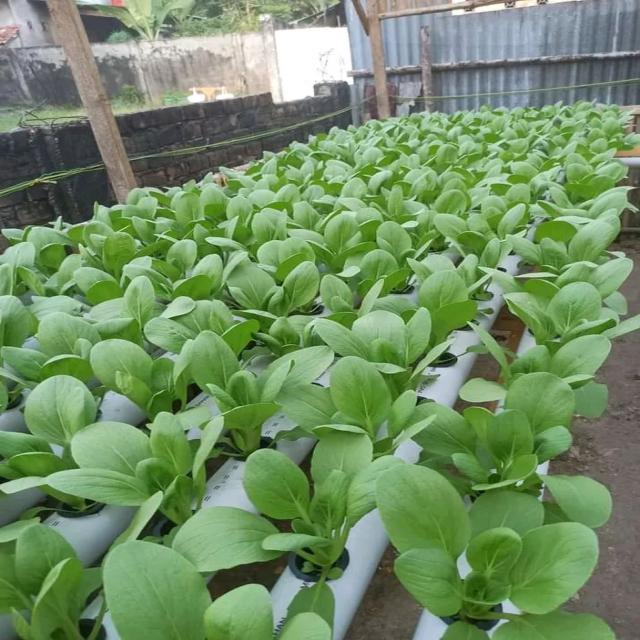pakcoy_sehat: (195, 428, 394, 582)
